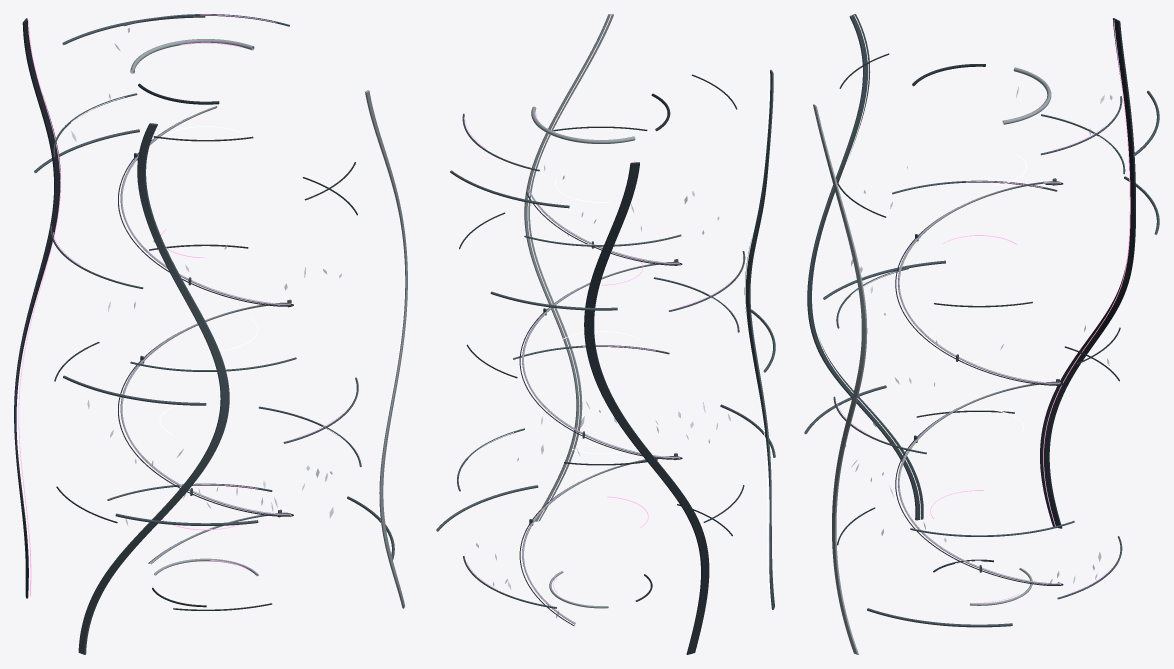
File: mechanical-memory-environment.glb
3 views of the same model, side by side, from view 1: azimuth 30°, elevation 25°; view 2: azimuth 150°, elevation 25°; view 3: azimuth 270°, elevation 25° (orthographic). The views are drawn at different scales.
Visible parts, largest first — view 1: BACKBONE_B, BACKBONE_A, BACKBONE_C, TIMELINE_RAIL_MAIN, TIMELINE_RAIL_COMPANION, BACKBONE_FILAMENT_A, CROWN_APERTURE_A; view 2: BACKBONE_A, BACKBONE_C, BACKBONE_B, TIMELINE_RAIL_MAIN, TIMELINE_RAIL_COMPANION, BACKBONE_FILAMENT_B, BACKBONE_FILAMENT_C, CROWN_APERTURE_A, TIMELINE_RAIL_SIGNAL; view 3: BACKBONE_A, BACKBONE_B, BACKBONE_C, TIMELINE_RAIL_MAIN, TIMELINE_RAIL_COMPANION, BACKBONE_FILAMENT_A, BACKBONE_FILAMENT_B, TIMELINE_RAIL_SIGNAL, BACKBONE_BRIDGE_04.
Part boxes in pixels (<box>): BACKBONE_B: <box>78,123,229,654</box>; BACKBONE_A: <box>14,18,60,598</box>; BACKBONE_C: <box>365,90,407,608</box>; TIMELINE_RAIL_MAIN: <box>120,106,291,564</box>; TIMELINE_RAIL_COMPANION: <box>118,106,293,563</box>; BACKBONE_FILAMENT_A: <box>18,20,60,596</box>; CROWN_APERTURE_A: <box>130,39,254,73</box>; BACKBONE_A: <box>584,162,709,654</box>; BACKBONE_C: <box>524,14,613,521</box>; BACKBONE_B: <box>744,70,774,609</box>; TIMELINE_RAIL_MAIN: <box>522,190,679,624</box>; TIMELINE_RAIL_COMPANION: <box>519,192,682,625</box>; BACKBONE_FILAMENT_B: <box>745,71,770,607</box>; BACKBONE_FILAMENT_C: <box>527,14,611,521</box>; CROWN_APERTURE_A: <box>531,106,635,143</box>; TIMELINE_RAIL_SIGNAL: <box>522,191,679,623</box>; BACKBONE_A: <box>1040,18,1135,528</box>; BACKBONE_B: <box>807,14,923,520</box>; BACKBONE_C: <box>813,104,867,654</box>; TIMELINE_RAIL_MAIN: <box>898,181,1060,584</box>; TIMELINE_RAIL_COMPANION: <box>895,182,1063,585</box>; BACKBONE_FILAMENT_A: <box>1043,20,1130,528</box>; BACKBONE_FILAMENT_B: <box>812,15,920,520</box>; TIMELINE_RAIL_SIGNAL: <box>897,182,1060,583</box>; BACKBONE_BRIDGE_04: <box>867,608,1012,627</box>.
Bounding box in the file's own units: 26.81 × 43.24 × 26.65.
